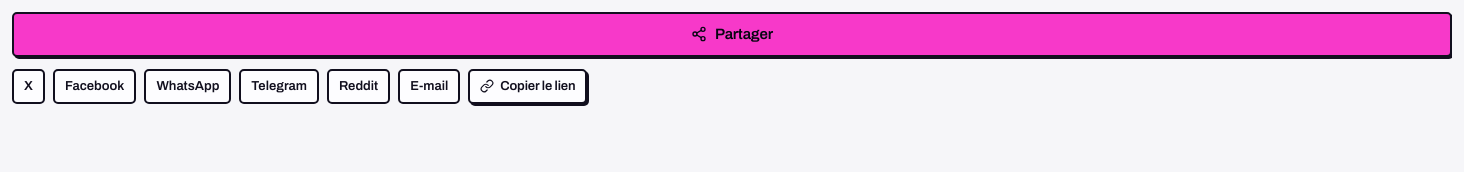
it: DoublageShareButtons › affiche une erreur si le partage natif échoue vraiment
Click the button "Partager": (732, 34) [12, 12, 1452, 56]
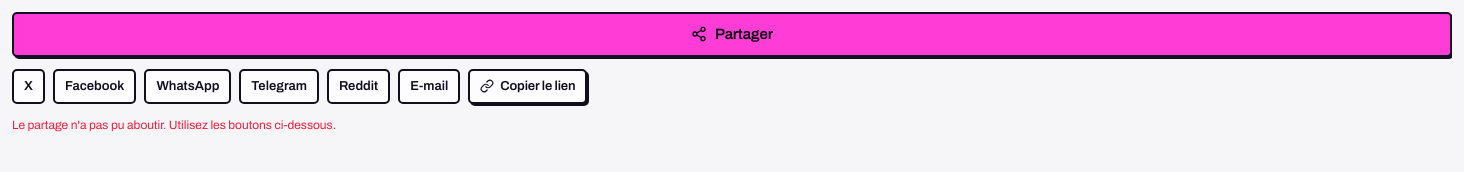
Expected: the message shows "pas pu aboutir", [12, 118, 336, 132]
